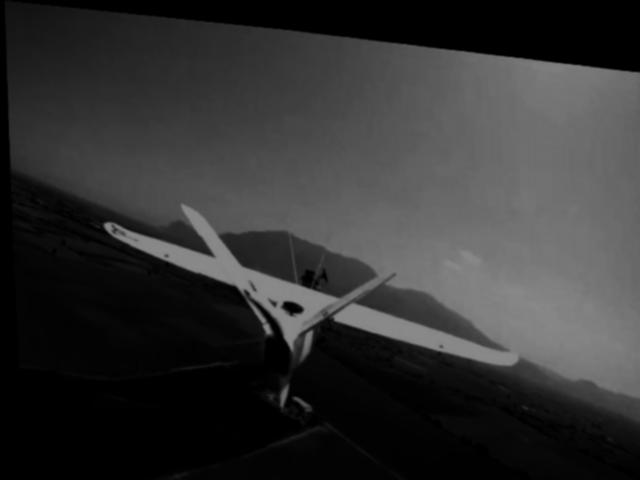hedef: (95, 181, 524, 452)
